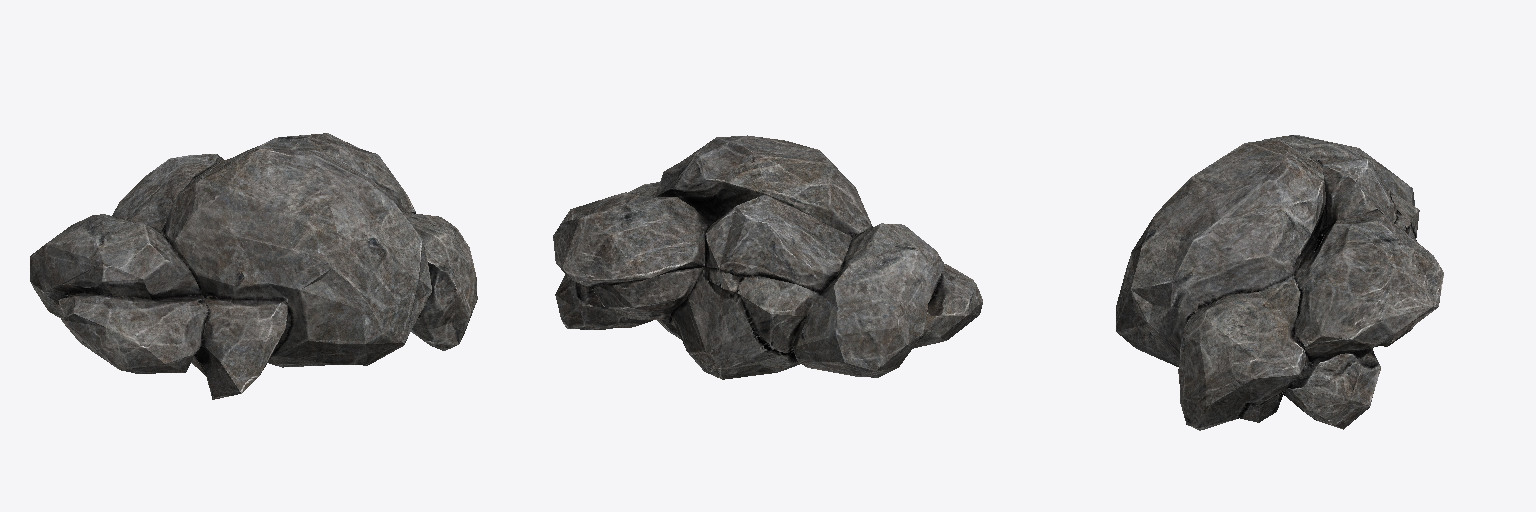
The picture shows the model from 3 angles: view 1: azimuth 30°, elevation 25°; view 2: azimuth 150°, elevation 25°; view 3: azimuth 270°, elevation 25°; orthographic projection.
Visible parts, largest first — view 1: Rocks_02; view 2: Rocks_02; view 3: Rocks_02.
Boxes of the visible parts, x1,y1,x2,y2 form: Rocks_02: [30, 133, 477, 399]; Rocks_02: [553, 135, 982, 379]; Rocks_02: [1116, 135, 1443, 430].
Bounding box in the file's own units: 136 × 67.68 × 98.36.
Materials: 1 (1 with a texture image).